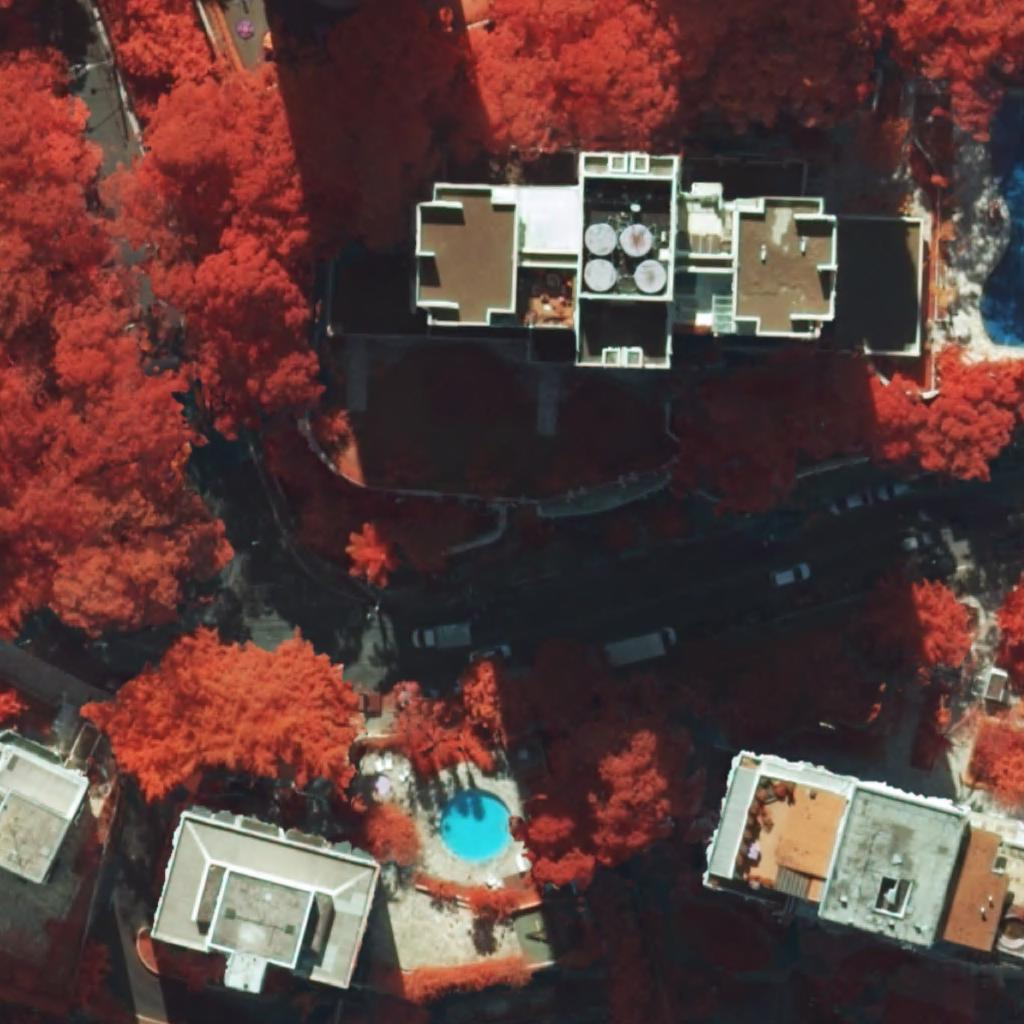pool: (979, 97, 1024, 349), (439, 789, 512, 863)
